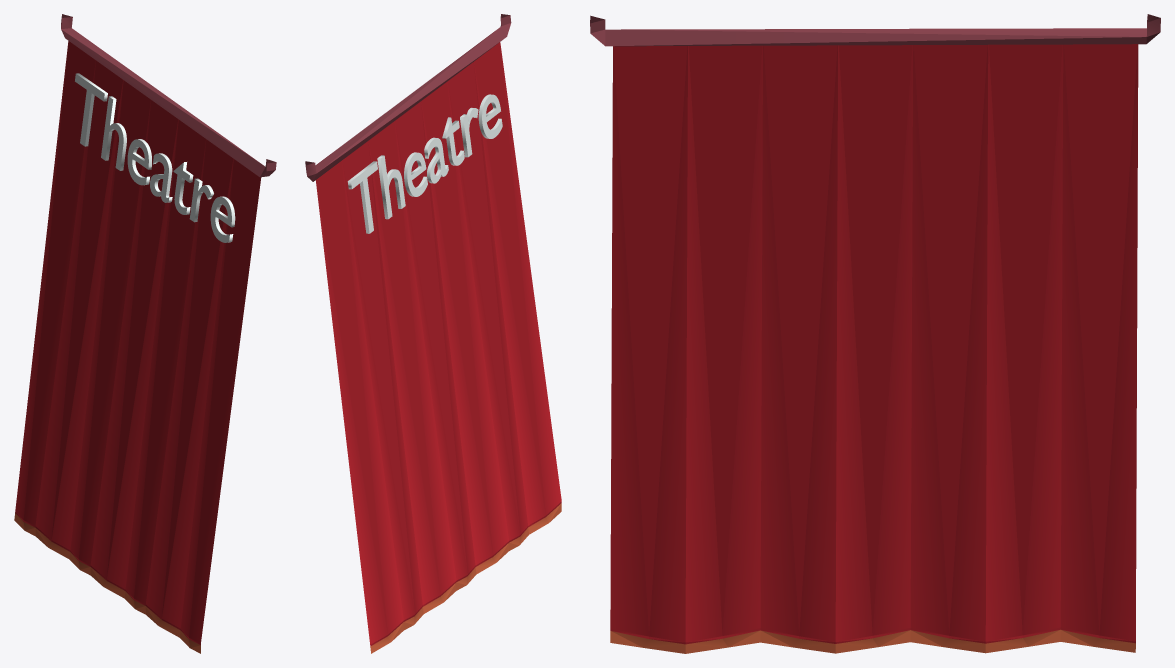
File: theatre.gltf
3 renders of one model, left to right at view 1: azimuth 30°, elevation 25°; view 2: azimuth 150°, elevation 25°; view 3: azimuth 270°, elevation 25°, orthographic. The views are drawn at different scales.
Visible parts, largest first — view 1: Curtains, Theatre; view 2: Curtains, Theatre; view 3: Curtains.
Boxes of the visible parts, left/top/right/bottom form: Curtains: left=14, top=14, right=276, bottom=653; Theatre: left=75, top=73, right=235, bottom=242; Curtains: left=305, top=14, right=561, bottom=653; Theatre: left=347, top=94, right=502, bottom=233; Curtains: left=590, top=14, right=1160, bottom=653.
Bounding box in the file's own units: 0.4644 × 3.03 × 2.32.
